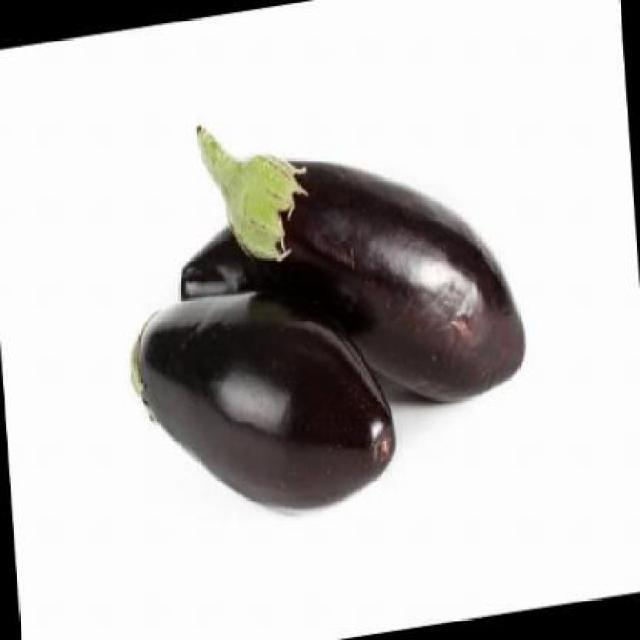eggplant: (196, 115, 530, 414), (126, 273, 399, 536)
